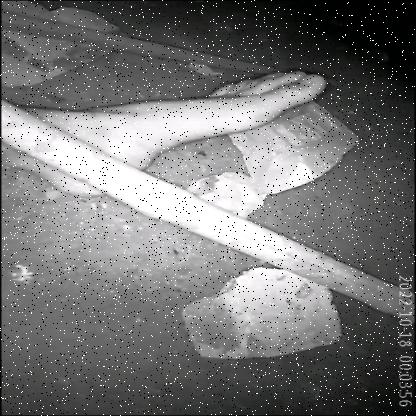leg: (0, 45, 333, 199)
